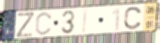1: (112, 7, 121, 32)
3: (60, 9, 76, 35)
C: (123, 6, 143, 31), (35, 11, 54, 37)
I: (81, 8, 89, 35)
Z: (15, 12, 35, 39)
